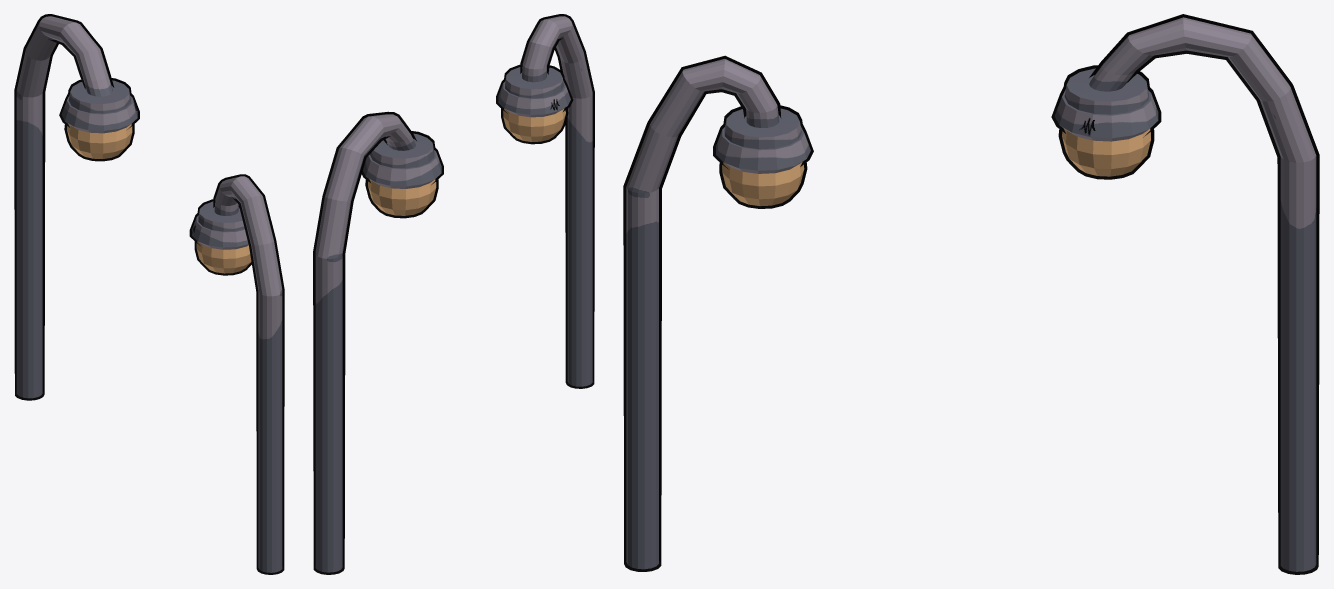
The model's file is Lamp_Post_For_Gaming.fbx.
3 renders of one model, left to right at view 1: azimuth 30°, elevation 25°; view 2: azimuth 150°, elevation 25°; view 3: azimuth 270°, elevation 25°, orthographic. The views are drawn at different scales.
Visible parts, largest first — view 1: Lamp That Hits Player, Lamp That Hits Dumb; view 2: Lamp That Hits Player, Lamp That Hits Dumb; view 3: Lamp That Hits Player, Lamp That Hits Dumb.
Boxes of the visible parts, bbox=[...] form: Lamp That Hits Player: bbox=[14, 14, 139, 400]; Lamp That Hits Dumb: bbox=[189, 174, 284, 574]; Lamp That Hits Player: bbox=[313, 111, 443, 574]; Lamp That Hits Dumb: bbox=[496, 14, 594, 388]; Lamp That Hits Player: bbox=[1051, 14, 1319, 574]; Lamp That Hits Dumb: bbox=[623, 55, 813, 571].
Bounding box in the file's own units: 97.55 × 536 × 614.
1 material, 1 textured.
